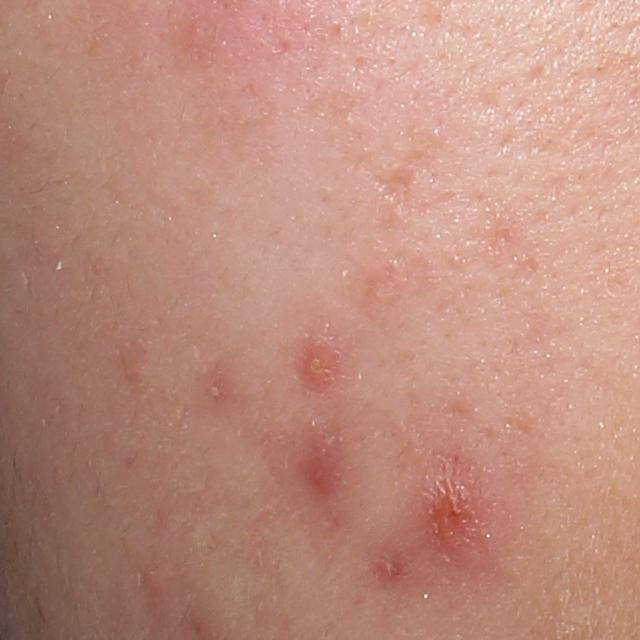atrophic_scar: (373, 164, 421, 223)
papule: (425, 476, 481, 550), (306, 450, 341, 489)
